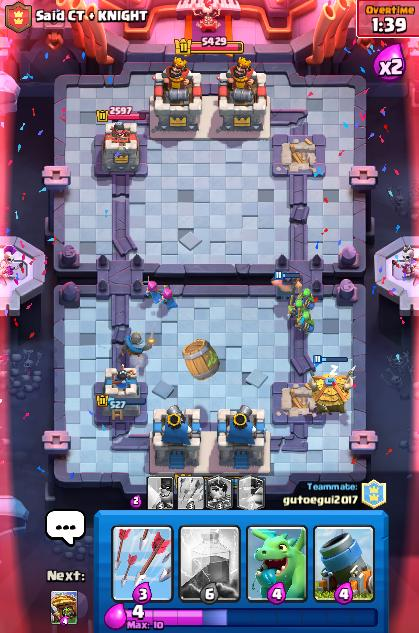EKingTower: (153, 59, 201, 130), (219, 66, 267, 130)
EnemyPrincessTower: (102, 122, 138, 173)
OArcher: (145, 280, 165, 303), (160, 287, 176, 309)
OEx: (271, 273, 300, 298)
OGoblinBarrel: (183, 339, 218, 379)
OGoblinHut: (310, 375, 352, 412)
OKnight: (121, 328, 153, 356)
OSpearGoblin: (295, 310, 314, 332), (288, 295, 304, 317), (302, 288, 317, 307)
OwnKingTower: (218, 405, 269, 471), (150, 405, 199, 472)
OwnPrincessTower: (95, 368, 146, 422)
TowerDown: (272, 382, 325, 424), (274, 134, 325, 177)
